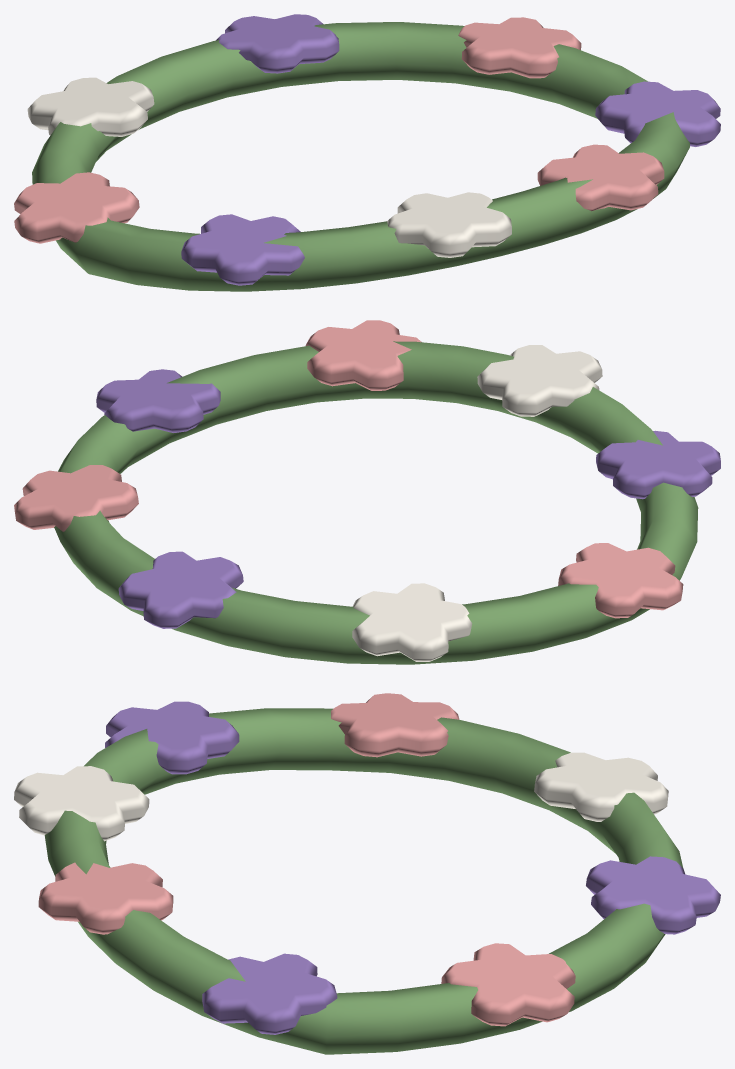
The model's file is chic_mum_crown.glb.
3 views of the same model, one above another, from view 1: azimuth 30°, elevation 25°; view 2: azimuth 150°, elevation 25°; view 3: azimuth 270°, elevation 25° (orthographic). The views are drawn at different scales.
Visible parts, largest first — view 1: chic_mum_crown_Head; view 2: chic_mum_crown_Head; view 3: chic_mum_crown_Head.
Boxes of the visible parts, bbox=[...] form: chic_mum_crown_Head: bbox=[14, 14, 720, 291]; chic_mum_crown_Head: bbox=[14, 320, 720, 664]; chic_mum_crown_Head: bbox=[14, 693, 720, 1054].
Size of the model in its own units: 0.562 by 0.0754 by 0.5018.
